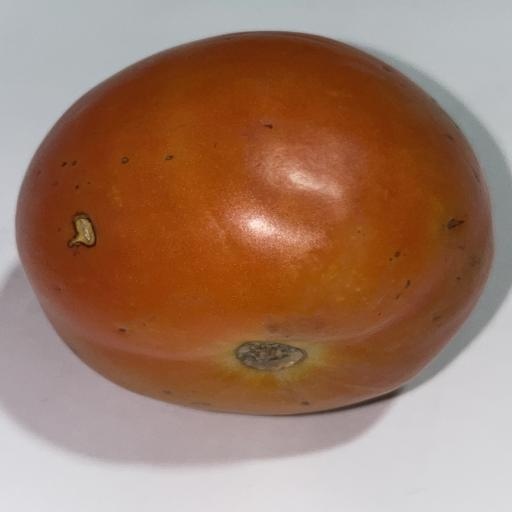ripe: (16, 31, 494, 415)
